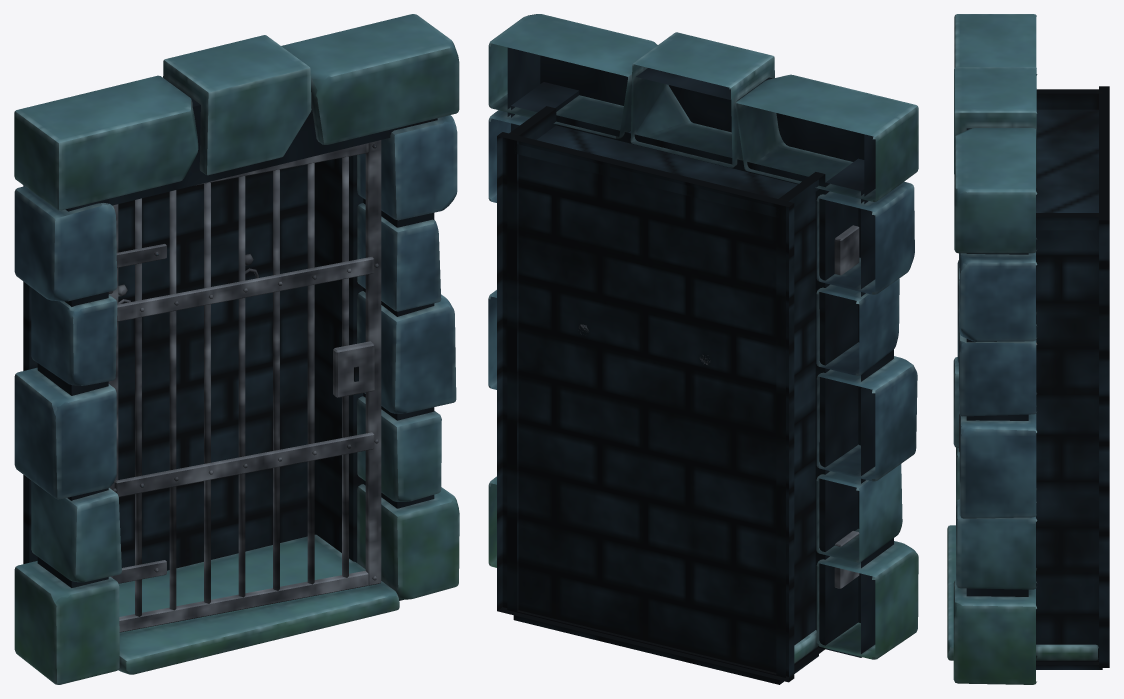
The model's file is ENV_CellDoor.fbx.
The picture shows the model from 3 angles, left to right: view 1: azimuth 30°, elevation 25°; view 2: azimuth 150°, elevation 25°; view 3: azimuth 270°, elevation 25°; orthographic projection. The views are drawn at different scales.
Visible parts, largest first — view 1: ENV_CellDoor; view 2: ENV_CellDoor; view 3: ENV_CellDoor.
Boxes of the visible parts, x1,y1,x2,y2 form: ENV_CellDoor: (14, 14, 459, 684); ENV_CellDoor: (488, 14, 918, 684); ENV_CellDoor: (947, 14, 1109, 684).
Bounding box in the file's own units: 2.41 × 3.25 × 0.92.
